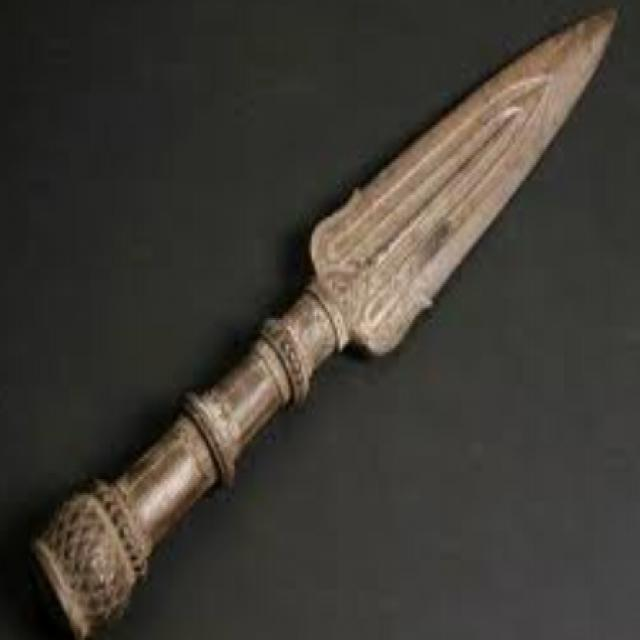spear: (27, 0, 633, 630)
